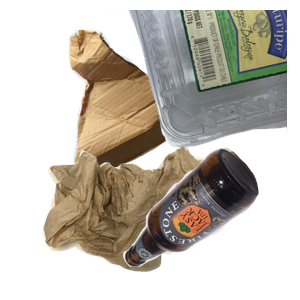cardboard: (66, 27, 242, 197)
glass: (120, 145, 300, 300)
plastic: (60, 10, 300, 149)
trash: (40, 138, 280, 300)
